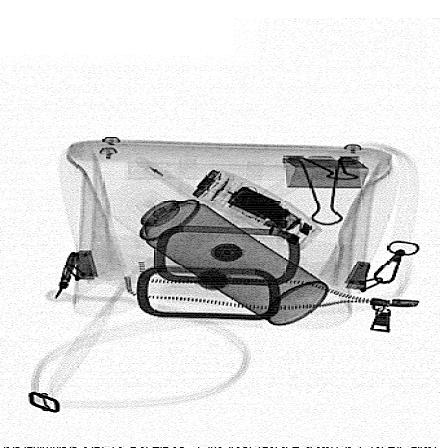Sprayer: (104, 182, 329, 326)
